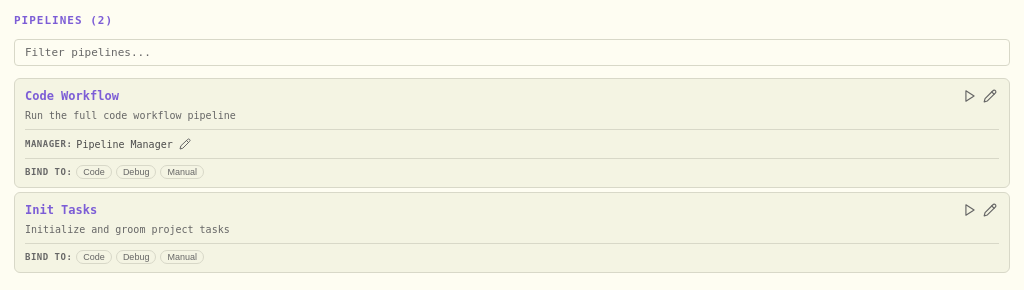
Test: PipelinesPanel › shows 'No pipelines found' when filter matches nothing
Expected: the text "Code Workflow" is shown, [25,89,119,103]
Type "zzzznonexistent" into the field with placeholder "Filter pipelines..." at (512, 52), box [14,39,1010,66]
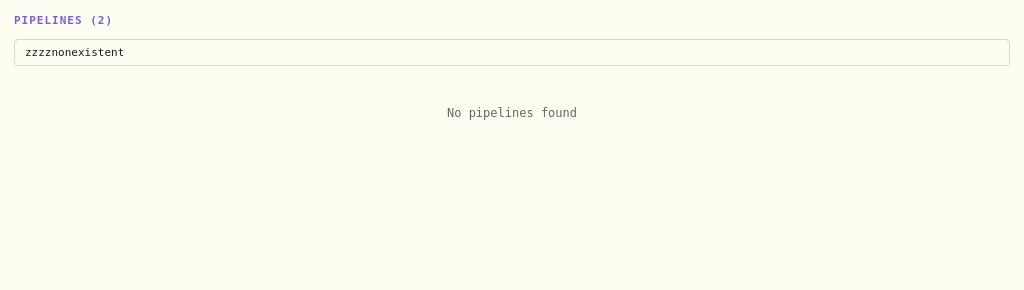
Expected: the text "No pipelines found" is shown, [447,106,577,120]
